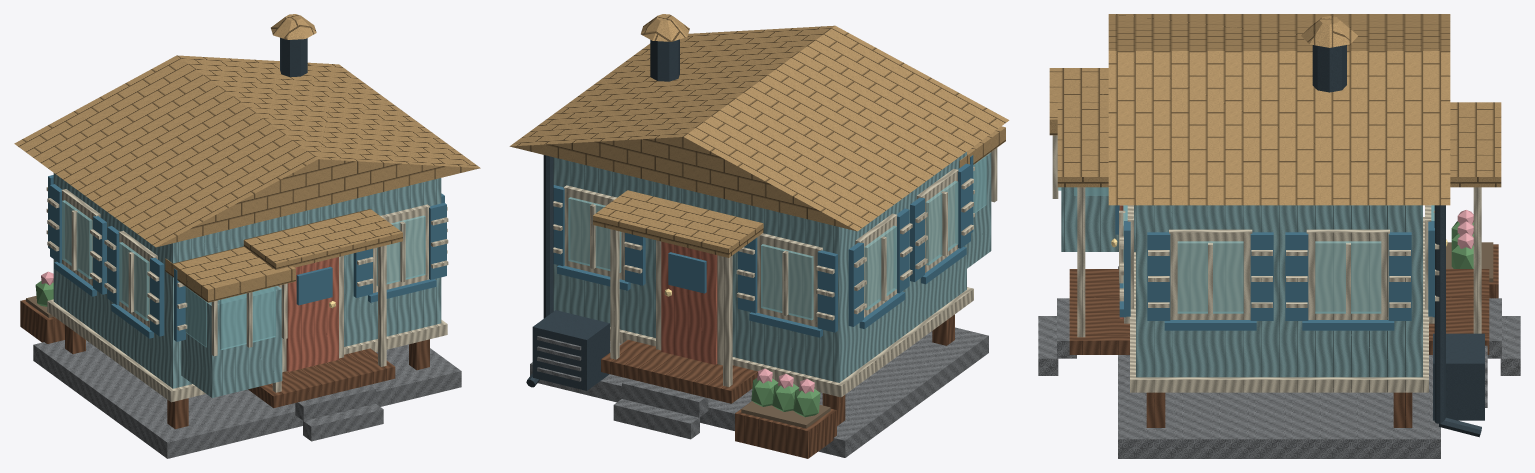
The model's file is house_beach_lv1_bay.glb.
3 renders of one model, left to right at view 1: azimuth 30°, elevation 25°; view 2: azimuth 150°, elevation 25°; view 3: azimuth 270°, elevation 25°, orthographic. The views are drawn at different scales.
Parts seen in each view (by area): view 1: gable_roof, walls, foundation, bay_base, front_porch_canopy, bay_cap, front_door, front_deck, floor_trim, front_window_frame.001, bay_glass, front_window_glass.001 (+26 smaller); view 2: gable_roof, walls, foundation, back_porch_canopy, back_door, back_deck, back_ac_unit, back_window_frame, floor_trim, back_window_frame.001, back_garden_bed, back_window_glass (+33 smaller); view 3: gable_roof, walls, foundation, right_window_frame, right_window_frame.001, floor_trim, right_window_glass.001, right_window_glass, back_porch_canopy, front_porch_canopy, front_deck, back_ac_unit (+24 smaller).
Part boxes in pixels (x1,y1,x2,y2): gable_roof: (14, 55, 480, 247); walls: (53, 173, 441, 388); foundation: (33, 340, 461, 458); bay_base: (181, 286, 282, 397); front_porch_canopy: (243, 209, 402, 269); bay_cap: (165, 246, 295, 302); front_door: (286, 257, 338, 371); front_deck: (248, 348, 395, 408); floor_trim: (47, 299, 447, 402); front_window_frame.001: (373, 204, 430, 292); bay_glass: (219, 286, 275, 350); front_window_glass.001: (376, 215, 425, 285); gable_roof: (509, 25, 1009, 231); walls: (553, 152, 966, 382); foundation: (530, 327, 988, 457); back_porch_canopy: (593, 190, 763, 257); back_door: (661, 241, 717, 364); back_deck: (601, 339, 757, 403); back_ac_unit: (532, 310, 609, 390); back_window_frame: (757, 233, 822, 327); floor_trim: (610, 287, 973, 397); back_window_frame.001: (563, 185, 624, 280); back_garden_bed: (735, 401, 836, 458); back_window_glass: (761, 244, 813, 320); gable_roof: (1108, 14, 1450, 205); walls: (1136, 205, 1422, 377); foundation: (1118, 266, 1440, 458); right_window_frame: (1169, 229, 1252, 319); right_window_frame.001: (1306, 229, 1389, 319); floor_trim: (1130, 217, 1428, 392); right_window_glass.001: (1315, 241, 1381, 313); right_window_glass: (1177, 241, 1243, 313); back_porch_canopy: (1450, 102, 1501, 187); front_porch_canopy: (1057, 102, 1108, 187); front_deck: (1069, 269, 1129, 354); back_ac_unit: (1433, 333, 1484, 420).
Size of the model in its own units: 3.15 by 3.01 by 3.36.
13 materials, 7 textured.
